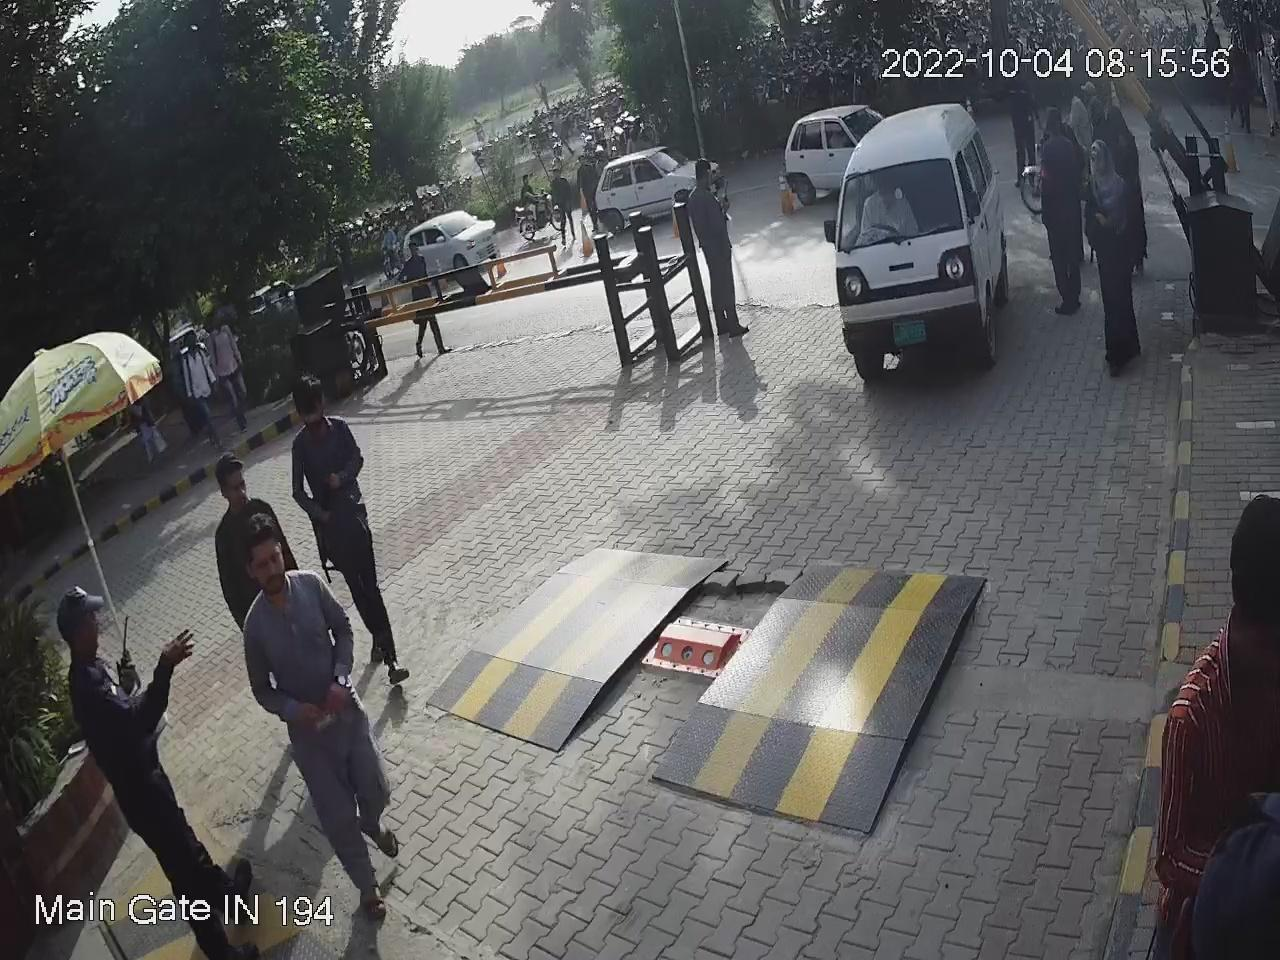windshield: (827, 132, 963, 252)
